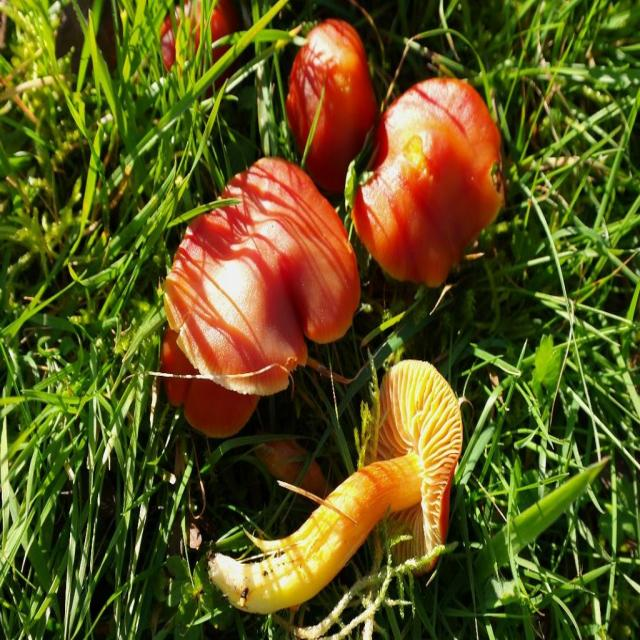Mushroom: (160, 155, 363, 506), (204, 356, 464, 615), (353, 77, 503, 291), (286, 18, 379, 202), (160, 0, 245, 100)
